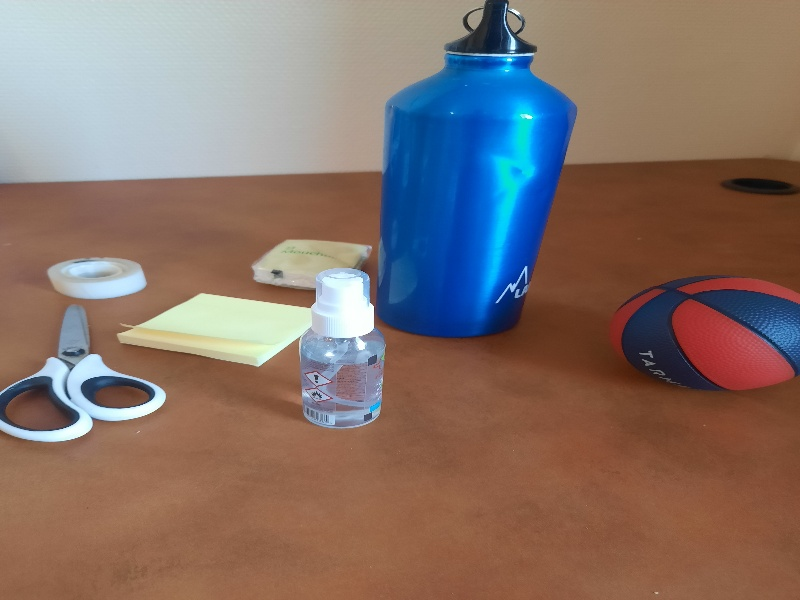ballon: (609, 274, 800, 392)
ciseaux: (1, 303, 167, 444)
gel: (300, 268, 383, 430)
gourde: (378, 1, 579, 337)
mouchoirs: (252, 238, 372, 287)
post-it: (116, 292, 312, 366)
scotch: (48, 258, 148, 299)
